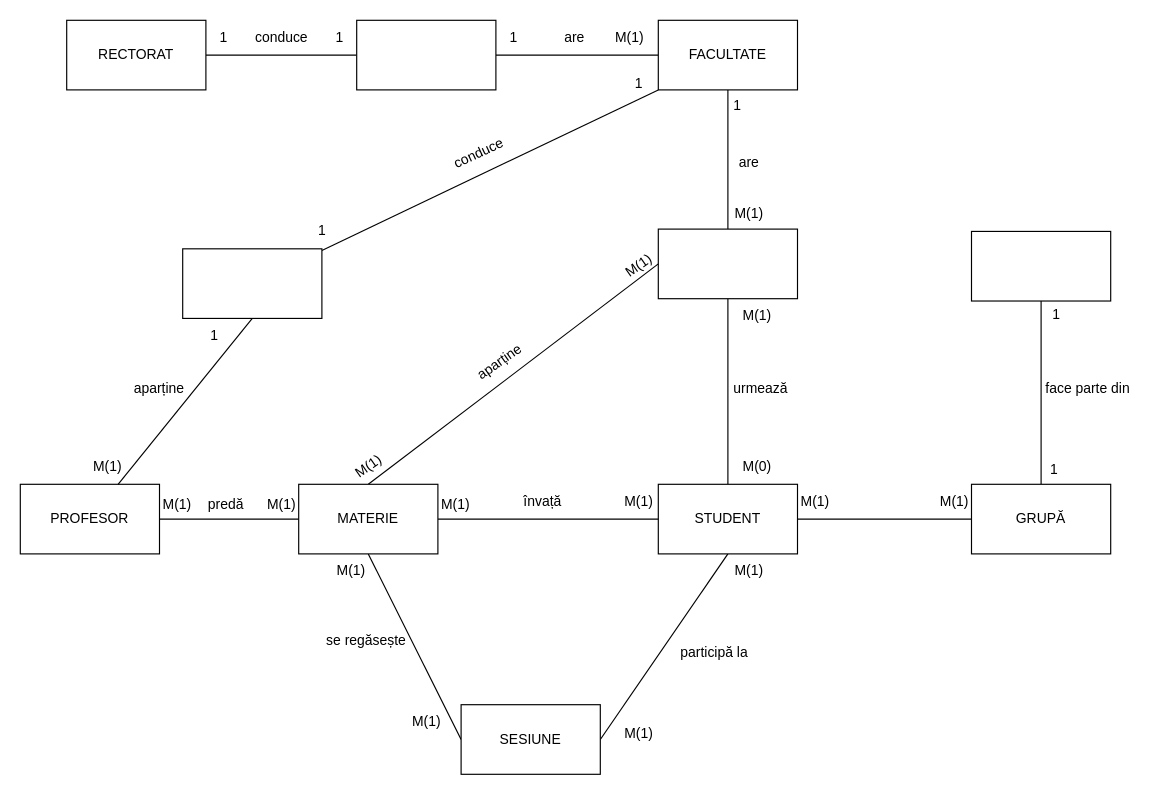
Image size: 1166x795. Some labels were removed from this diagram. Each missing label, with the box of its shape:
DECANAT: (182, 248, 322, 318)
SERIE: (970, 230, 1111, 301)
SPECIALIZARE: (657, 228, 798, 299)
UNIVERSITATE: (356, 19, 496, 90)
